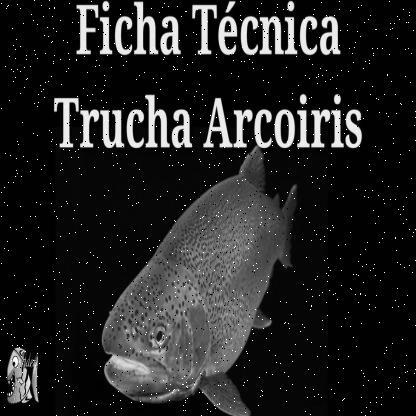fish: (100, 140, 302, 414)
